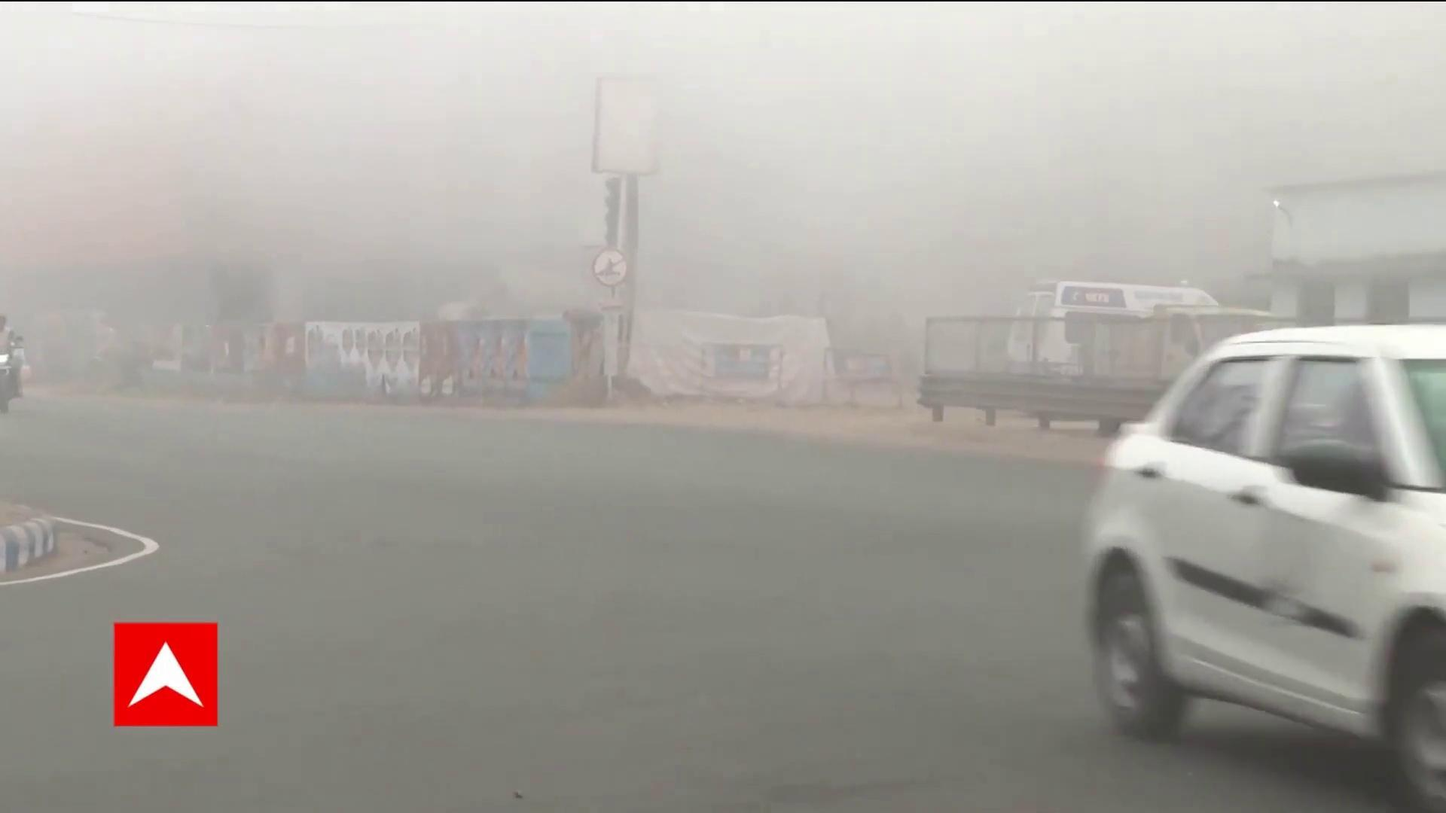Car: (1086, 322, 1446, 813)
